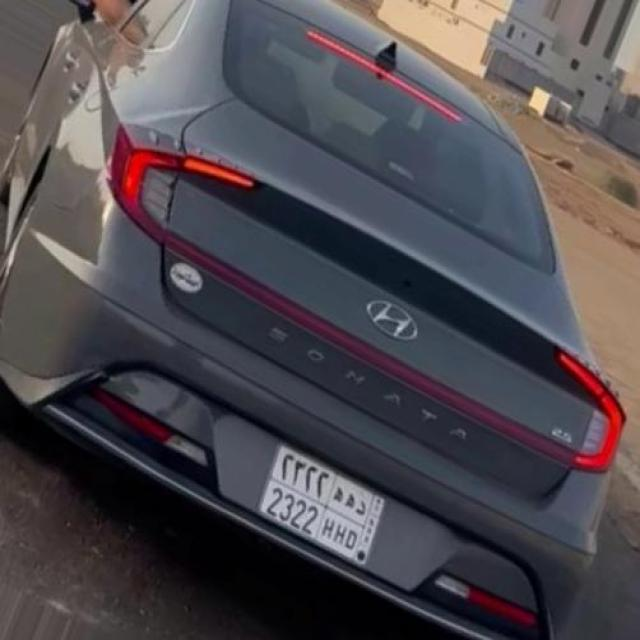Car-plate: (250, 438, 392, 568)
